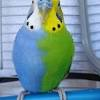budgie: (12, 1, 75, 100)
